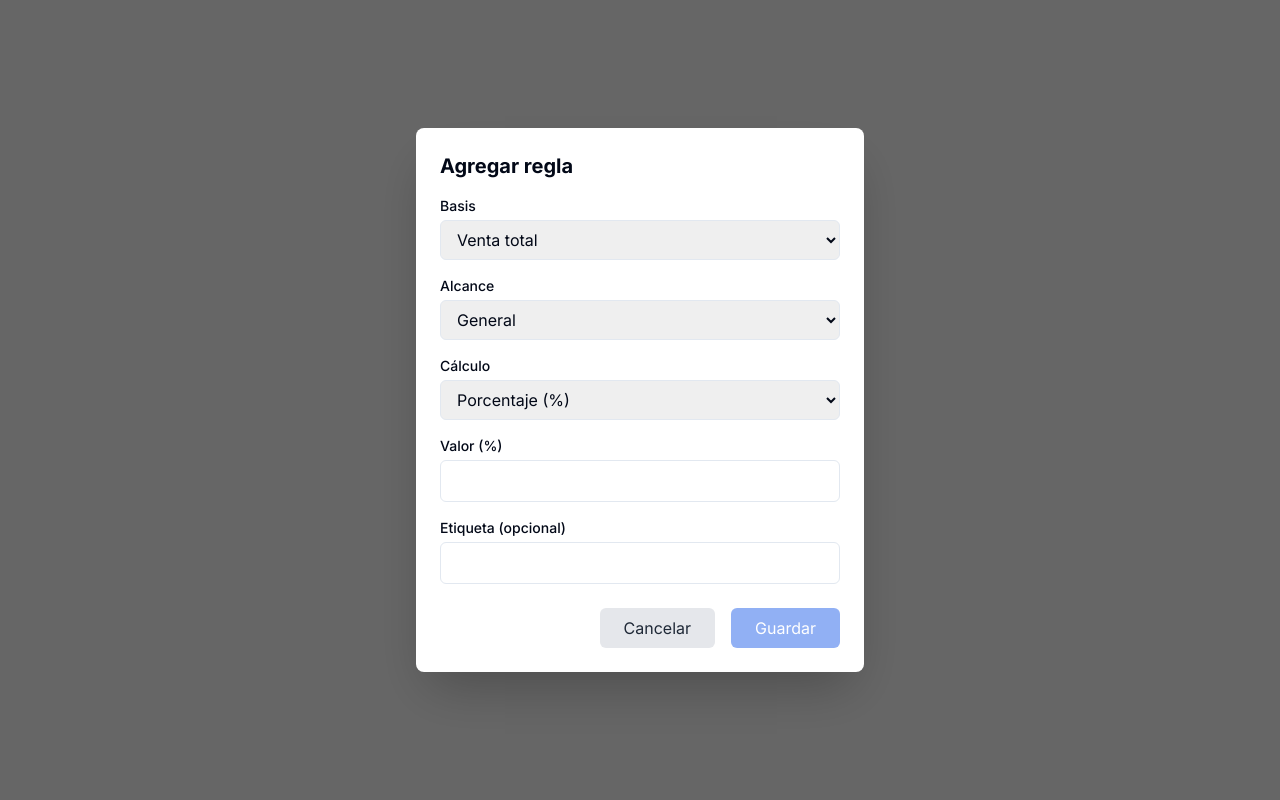
Test: RuleFormModal › disables submit until a scope value is chosen when scope is not GENERAL
Select "Categoría de producto" in the dropdown labelled "Alcance": point(640, 320) [440,300,840,340]
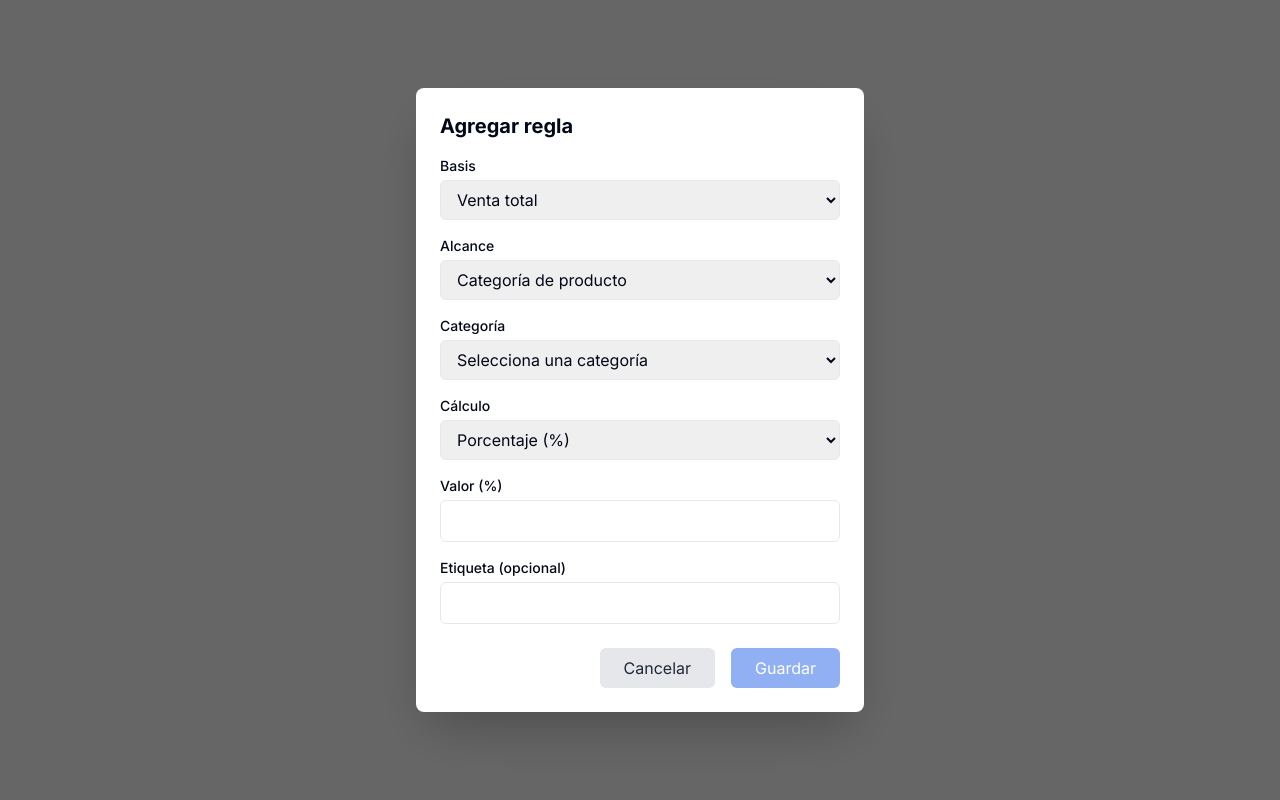
In the number field labelled "Valor (%)": point(640, 521) [440,500,840,542], type "10"
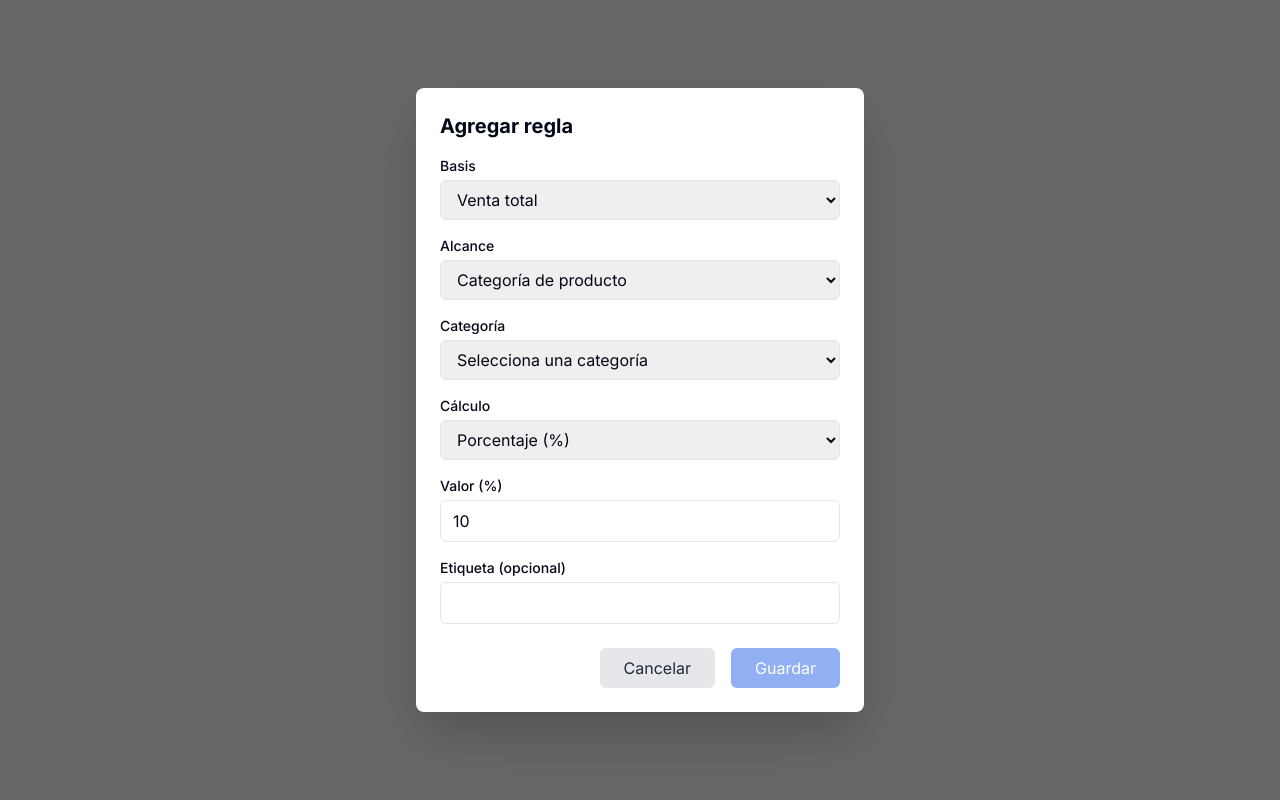
Expected: the button "Guardar" is disabled, [731,648,840,688]
Select "Accesorios" in the dropdown labelled "Categoría": point(640, 360) [440,340,840,380]
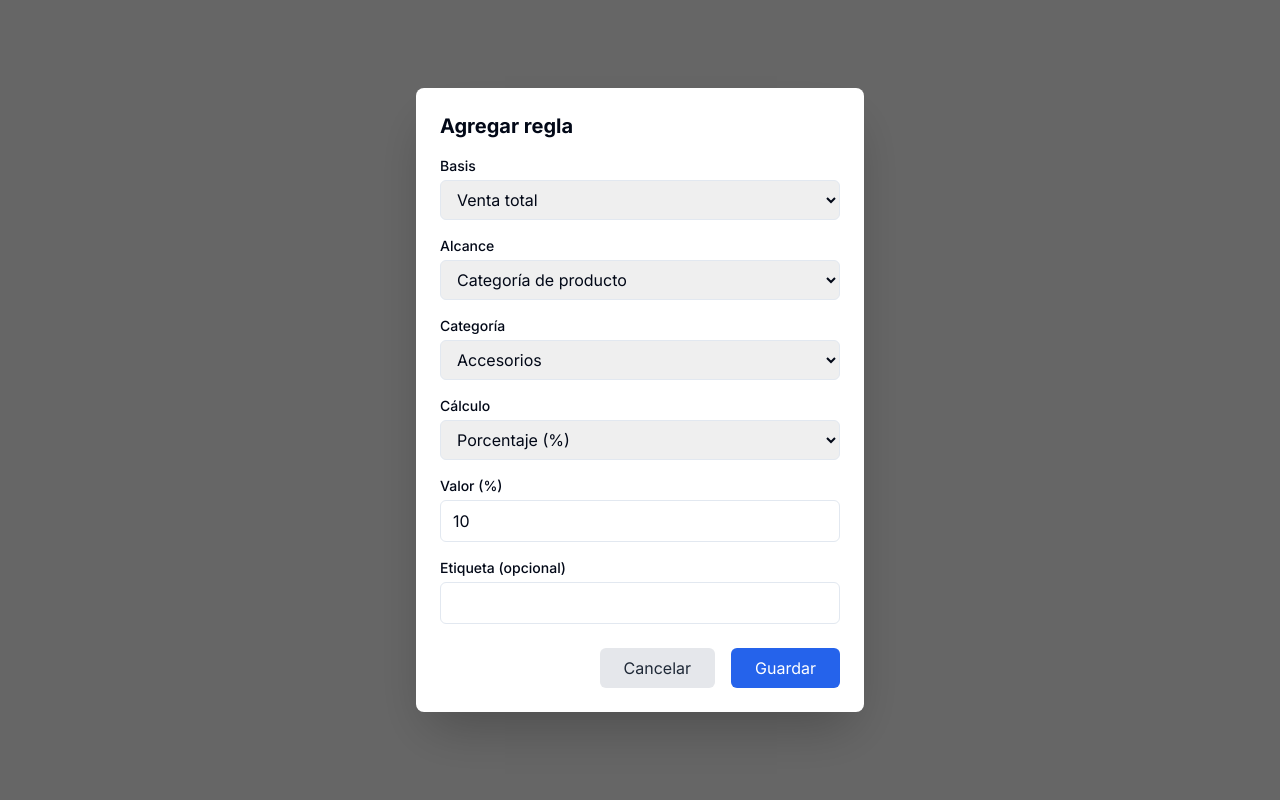
Now the button "Guardar" is enabled, box [731,648,840,688]
